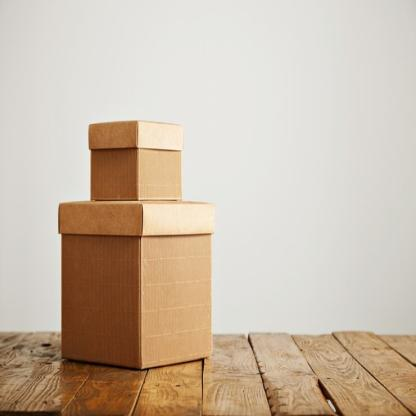box: (58, 201, 142, 370), (89, 122, 139, 201)
